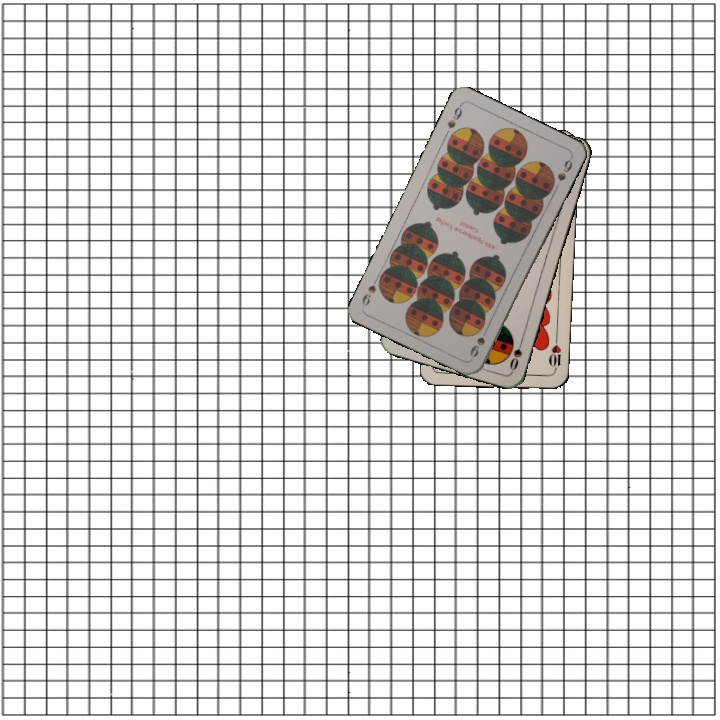H10: (545, 334, 564, 374)
S9: (466, 323, 491, 360), (443, 100, 465, 131)
SO: (506, 334, 526, 373)
